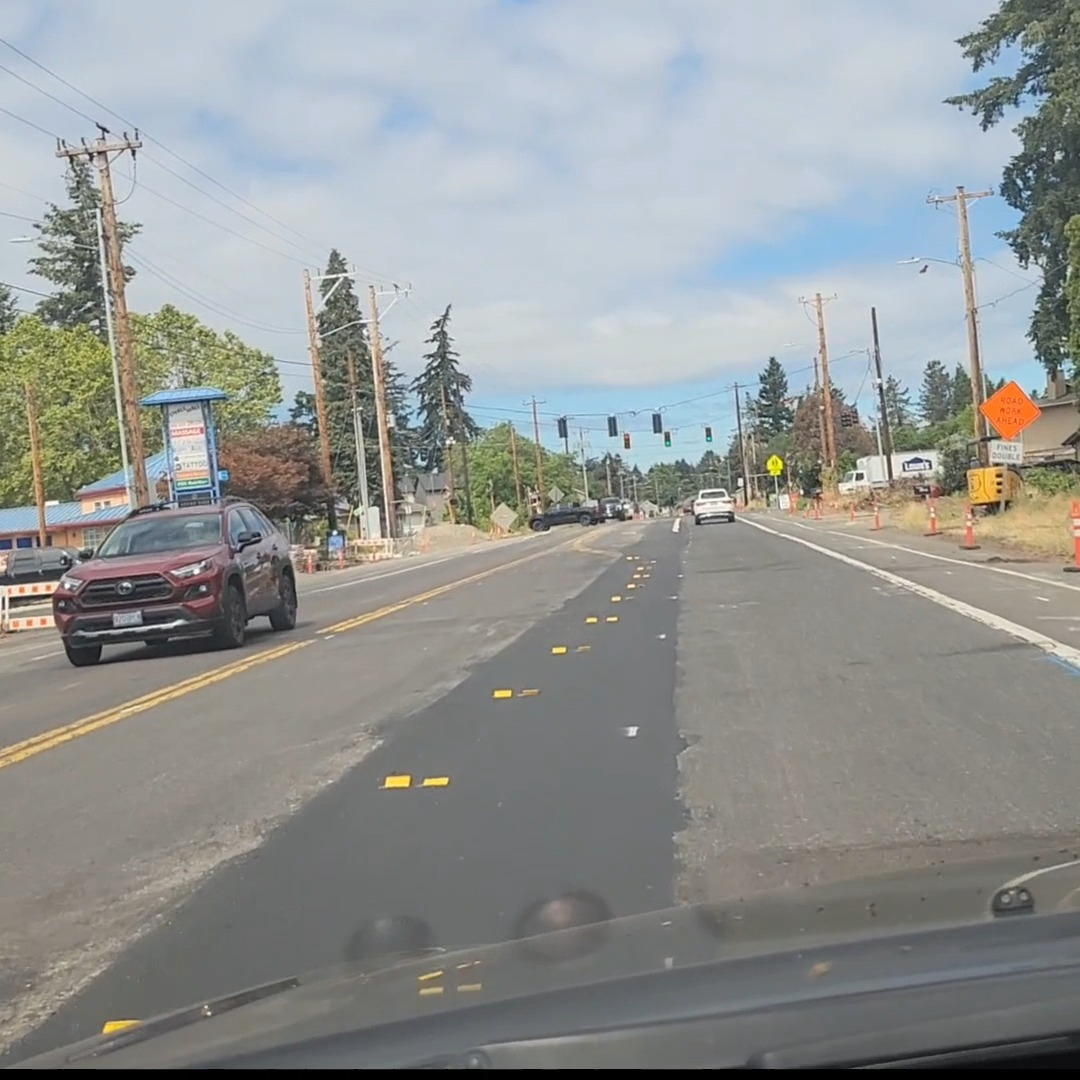car: (53, 496, 299, 662), (1, 546, 78, 585), (528, 502, 599, 531), (691, 488, 736, 524), (596, 496, 631, 521)
crosswalk-sign: (766, 454, 783, 476)
delineator: (959, 506, 981, 550), (922, 496, 941, 536), (870, 498, 883, 530), (848, 499, 858, 522), (813, 497, 823, 519), (803, 498, 813, 517), (788, 492, 796, 513)
